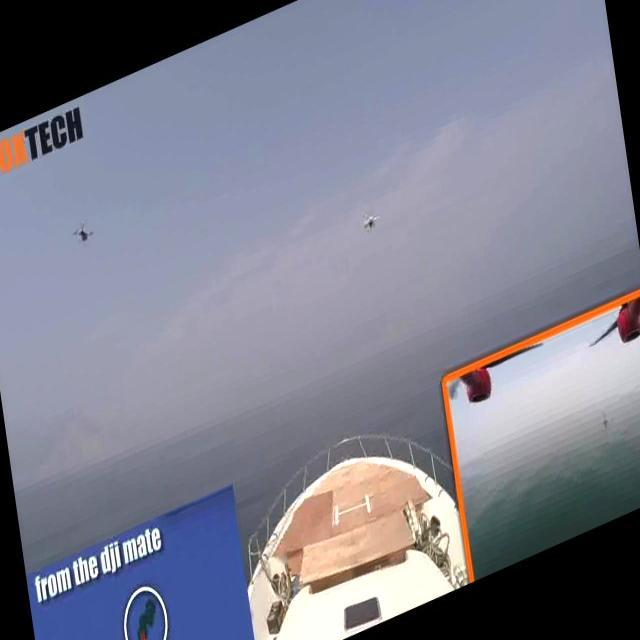drone: (72, 218, 94, 246), (362, 208, 378, 234)
